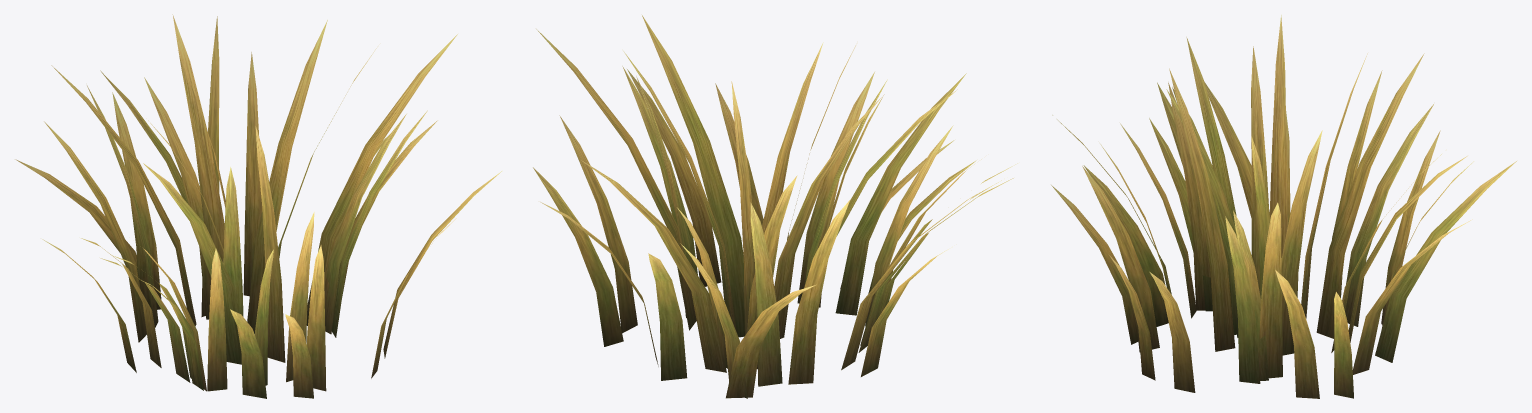
File: a02_dry_grass_tuft_med.glb
3 renders of one model, left to right at view 1: azimuth 30°, elevation 25°; view 2: azimuth 150°, elevation 25°; view 3: azimuth 270°, elevation 25°, orthographic. The views are drawn at different scales.
Parts seen in each view (by area): view 1: A02_med_Tuft; view 2: A02_med_Tuft; view 3: A02_med_Tuft.
Part boxes in pixels (<box>): A02_med_Tuft: <box>15,14,501,398</box>; A02_med_Tuft: <box>533,15,1017,398</box>; A02_med_Tuft: <box>1051,15,1516,398</box>.
Bounding box in the file's own units: 0.9931 × 0.7054 × 0.9895.
Materials: 1 (1 with a texture image).
